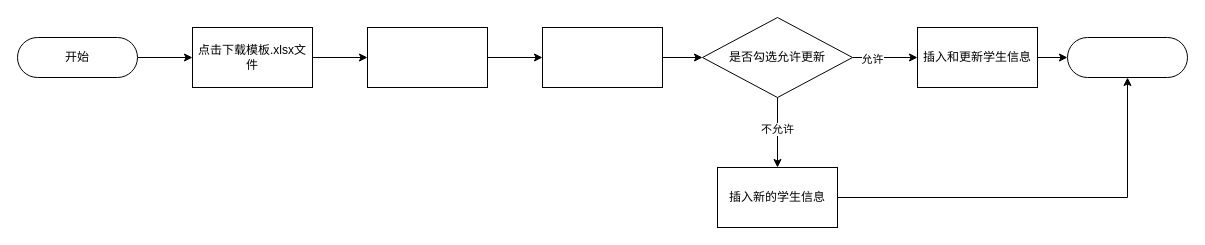
This 1205x245 diagram has some shape labels left out. The shapes that lost their labels are listed below. From the top down, each one's centre as x and y in pixels, then its label:
At [427,57]: "按照文件填写数据".
At [602,57]: "点击导入，上传文件".
At [1127,57]: "结束".
